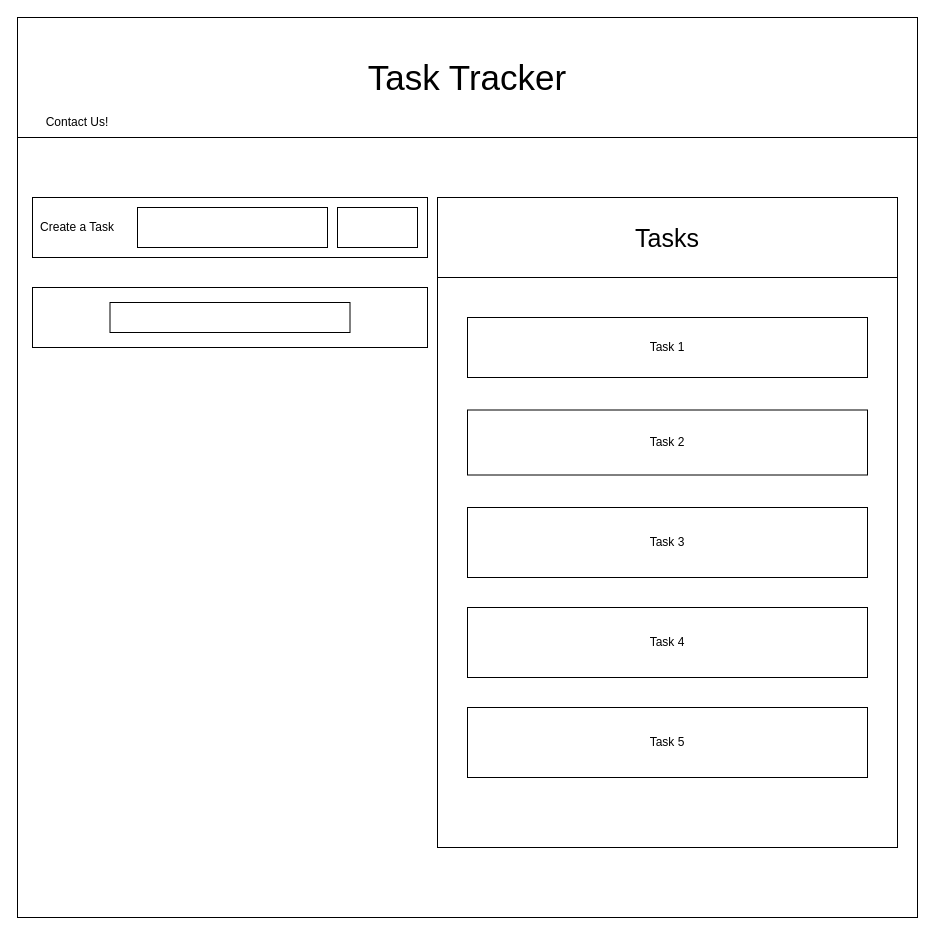
Some shapes in this 935 by 935 pixel diagram are drawn without their labels. The shapes that lost their labels are listed below. From the top down, each one's centre as x and y in pixels, then its label:
At [377,227]: "Enter".
At [229,317]: "Manage Tasks".
